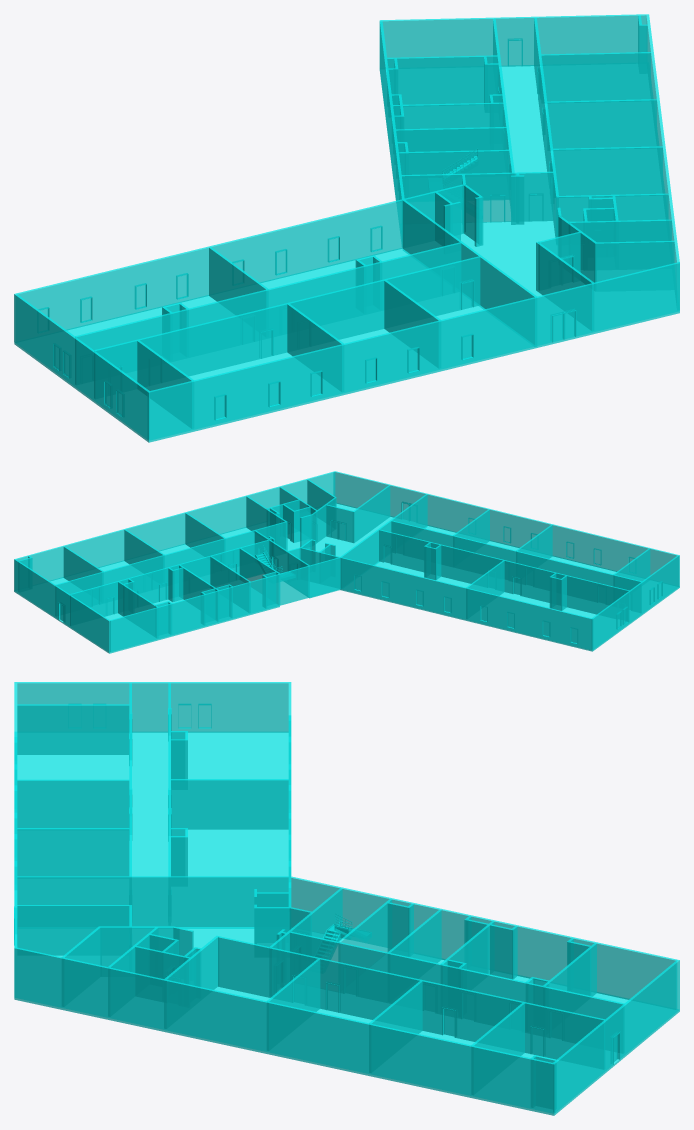
3 views of the same model, one above another, from view 1: azimuth 30°, elevation 25°; view 2: azimuth 150°, elevation 25°; view 3: azimuth 270°, elevation 25° (orthographic). The views are drawn at different scales.
Parts seen in each view (by area): view 1: 楼板 常规 - 150mm - 实心 [263747], 基本墙 常规 - 200mm [220078], 基本墙 常规 - 200mm [220722], 基本墙 常规 - 200mm [275254], 基本墙 常规 - 200mm [274609], 基本墙 常规 - 200mm [220490], 基本墙 常规 - 200mm [220810], 基本墙 常规 - 200mm [273276], 基本墙 常规 - 200mm [222718], 基本墙 常规 - 200mm [222671], 基本墙 常规 - 200mm [222768], 基本墙 常规 - 200mm [223216] (+23 smaller); view 2: 楼板 常规 - 150mm - 实心 [263747], 基本墙 常规 - 200mm [220078], 基本墙 常规 - 200mm [220246], 基本墙 常规 - 200mm [220722], 基本墙 常规 - 200mm [287229], 基本墙 常规 - 200mm [274609], 基本墙 常规 - 200mm [275254], 基本墙 常规 - 200mm [223144], 基本墙 常规 - 200mm [276034], 基本墙 常规 - 200mm [220490], 基本墙 常规 - 200mm [220810], 基本墙 常规 - 200mm [273276] (+29 smaller); view 3: 楼板 常规 - 150mm - 实心 [263747], 基本墙 常规 - 200mm [220246], 基本墙 常规 - 200mm [276034], 基本墙 常规 - 200mm [287229], 基本墙 常规 - 200mm [273276], 基本墙 常规 - 200mm [223144], 基本墙 常规 - 200mm [220810], 基本墙 常规 - 200mm [220490], 基本墙 常规 - 200mm [232425], 基本墙 常规 - 200mm [246686], 基本墙 常规 - 200mm [221338], 基本墙 常规 - 200mm [221406] (+31 smaller).
Part boxes in pixels (box(x1,y1,x2,y2)): 楼板 常规 - 150mm - 实心 [263747]: box(14, 64, 679, 442); 基本墙 常规 - 200mm [220078]: box(147, 262, 679, 440); 基本墙 常规 - 200mm [220722]: box(14, 184, 463, 342); 基本墙 常规 - 200mm [275254]: box(94, 256, 480, 398); 基本墙 常规 - 200mm [274609]: box(75, 242, 461, 384); 基本墙 常规 - 200mm [220490]: box(379, 14, 646, 68); 基本墙 常规 - 200mm [220810]: box(15, 294, 149, 439); 基本墙 常规 - 200mm [273276]: box(402, 200, 536, 344); 基本墙 常规 - 200mm [222718]: box(547, 99, 656, 150); 基本墙 常规 - 200mm [222671]: box(553, 146, 662, 197); 基本墙 常规 - 200mm [222768]: box(541, 52, 650, 102); 基本墙 常规 - 200mm [223216]: box(401, 171, 553, 222); 楼板 常规 - 150mm - 实心 [263747]: box(14, 503, 679, 653); 基本墙 常规 - 200mm [220078]: box(334, 471, 679, 586); 基本墙 常规 - 200mm [220246]: box(14, 471, 335, 590); 基本墙 常规 - 200mm [220722]: box(301, 547, 593, 650); 基本墙 常规 - 200mm [287229]: box(110, 557, 340, 651); 基本墙 常规 - 200mm [274609]: box(379, 529, 629, 618); 基本墙 常规 - 200mm [275254]: box(391, 520, 641, 612); 基本墙 常规 - 200mm [223144]: box(70, 540, 269, 625); 基本墙 常规 - 200mm [276034]: box(55, 522, 285, 615); 基本墙 常规 - 200mm [220490]: box(15, 559, 110, 652); 基本墙 常规 - 200mm [220810]: box(592, 555, 678, 649); 基本墙 常规 - 200mm [273276]: box(340, 494, 427, 587); 楼板 常规 - 150mm - 实心 [263747]: box(14, 732, 679, 1115); 基本墙 常规 - 200mm [220246]: box(17, 947, 555, 1113); 基本墙 常规 - 200mm [276034]: box(218, 936, 604, 1068); 基本墙 常规 - 200mm [287229]: box(291, 876, 676, 1009); 基本墙 常规 - 200mm [273276]: box(17, 876, 288, 928); 基本墙 常规 - 200mm [223144]: box(290, 931, 624, 1052); 基本墙 常规 - 200mm [220810]: box(17, 682, 288, 732); 基本墙 常规 - 200mm [220490]: box(553, 959, 679, 1112); 基本墙 常规 - 200mm [232425]: box(171, 779, 288, 829); 基本墙 常规 - 200mm [246686]: box(17, 704, 129, 754); 基本墙 常规 - 200mm [221338]: box(17, 779, 129, 829); 基本墙 常规 - 200mm [221406]: box(17, 828, 129, 877).
Bounding box in the file's own units: 63022 × 4855 × 46379.
